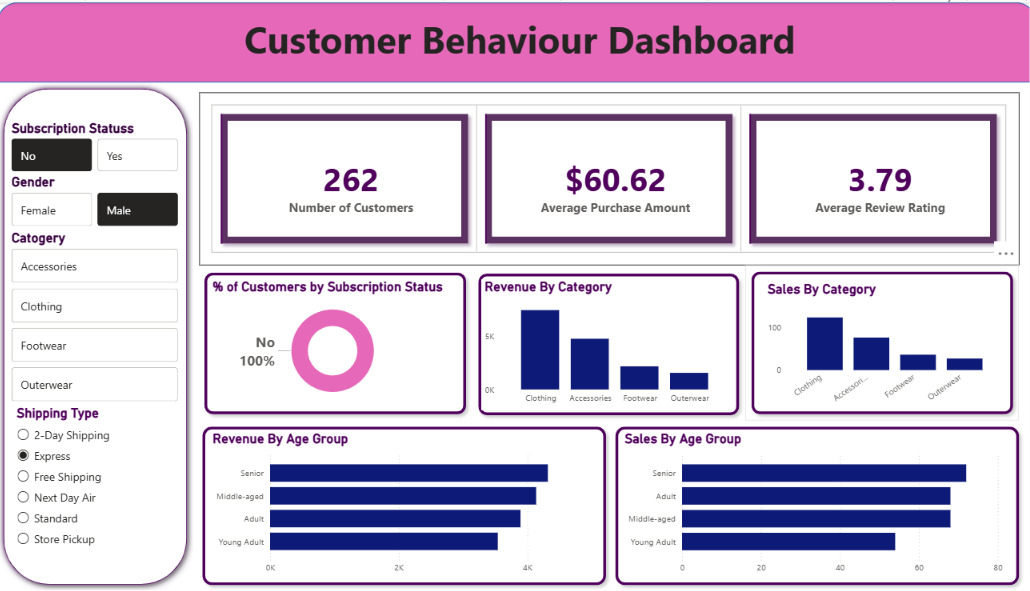

Layout of this report page (visuals, bound fields, positions):
{"tool":"powerbi","page":{"name":"Page 1","canvas":[1500,850],"ordinal":0},"visuals":[{"type":"cardVisual","fields":{"Data":["public customer.Number of Customers","public customer.Average Purchase Amount","public customer.Average Review Rating"]},"box":[291.6,129.9,1183.8,249.7],"z":0},{"type":"shape","box":[0,0,1500.3,115.7],"z":1000},{"type":"textbox","box":[33.7,11.2,1442.5,93.2],"z":2000},{"type":"shape","box":[290.2,381.1,395.6,222.3],"z":3000},{"type":"donutChart","title":"% of Customers by Subscription Status","fields":{"Category":["public customer.subscription_status"],"Y":["CountNonNull(public customer.customer_id)"]},"box":[306,399.9,356.6,184.8],"z":4000},{"type":"shape","box":[685.7,382.6,394.1,222.3],"z":5000},{"type":"shape","box":[1079.8,379.7,395.6,223.8],"z":6000},{"type":"clusteredColumnChart","title":"Revenue By Category","fields":{"Y":["Sum(public customer.purchase_amount)"],"Category":["public customer.category"]},"box":[698.7,399.9,363.8,189.1],"z":7000},{"type":"clusteredColumnChart","title":"Sales By Category","fields":{"Y":["CountNonNull(public customer.customer_id)"],"Category":["public customer.category"]},"box":[1107.3,402.8,349.4,186.2],"z":8000},{"type":"shape","box":[0,115.7,282.7,734.1],"z":9000},{"type":"advancedSlicerVisual","title":"Subscription Statuss","fields":{"Values":["public customer.subscription_status"]},"box":[16.1,170.3,250.6,78.7],"z":10000},{"type":"advancedSlicerVisual","title":"Gender","fields":{"Values":["public customer.gender"]},"box":[16.1,249,250.6,80.3],"z":11000},{"type":"advancedSlicerVisual","title":"Catogery","fields":{"Values":["public customer.category"]},"box":[16.1,329.3,250.6,252.2],"z":12000},{"type":"listSlicer","fields":{"Values":["public customer.shipping_type"]},"box":[22.5,581.5,236.1,231.3],"z":13000},{"type":"shape","box":[287.3,603.4,600.5,246.9],"z":13500,"group":"g1"},{"type":"shape","box":[883.5,603.4,600.5,246.9],"z":14000},{"type":"clusteredBarChart","title":"Revenue By Age Group","fields":{"Y":["Sum(public customer.purchase_amount)"],"Category":["public customer.age_group"]},"box":[306.1,619.4,564.5,214.8],"z":14000,"group":"g1"},{"type":"clusteredBarChart","title":"Sales By Age Group","fields":{"Category":["public customer.age_group"],"Y":["CountNonNull(public customer.customer_id)"]},"box":[900.8,619.3,555.8,215.1],"z":15000},{"type":"group","id":"g1","title":"Group 1","box":[287.3,603.4,600.5,246.9],"z":16000}]}

Visuals, with their boxes in screenshot pixels (x1, y1, x2, y2), scaled from the page's 1500x850 canvas onto the 1030x591 screenshot:
cardVisual - public customer.Number of Customers x public customer.Average Purchase Amount: (left=200, top=90, right=1013, bottom=264)
shape: (left=0, top=0, right=1029, bottom=80)
textbox: (left=23, top=8, right=1014, bottom=73)
shape: (left=199, top=265, right=471, bottom=420)
"% of Customers by Subscription Status" donutChart: (left=210, top=278, right=455, bottom=407)
shape: (left=471, top=266, right=741, bottom=421)
shape: (left=741, top=264, right=1013, bottom=420)
"Revenue By Category" clusteredColumnChart: (left=480, top=278, right=730, bottom=410)
"Sales By Category" clusteredColumnChart: (left=760, top=280, right=1000, bottom=410)
shape: (left=0, top=80, right=194, bottom=590)
"Subscription Statuss" advancedSlicerVisual: (left=11, top=118, right=183, bottom=173)
"Gender" advancedSlicerVisual: (left=11, top=173, right=183, bottom=229)
"Catogery" advancedSlicerVisual: (left=11, top=229, right=183, bottom=404)
listSlicer - public customer.shipping_type: (left=15, top=404, right=178, bottom=565)
shape: (left=197, top=420, right=610, bottom=590)
shape: (left=607, top=420, right=1019, bottom=590)
"Revenue By Age Group" clusteredBarChart: (left=210, top=431, right=598, bottom=580)
"Sales By Age Group" clusteredBarChart: (left=619, top=431, right=1000, bottom=580)
"Group 1" group: (left=197, top=420, right=610, bottom=590)
